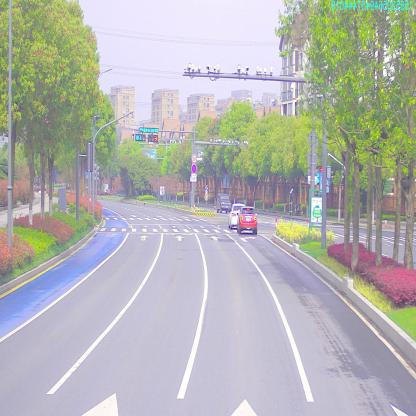traffic-light: (139, 127, 158, 134), (149, 135, 158, 143), (136, 134, 146, 141)
